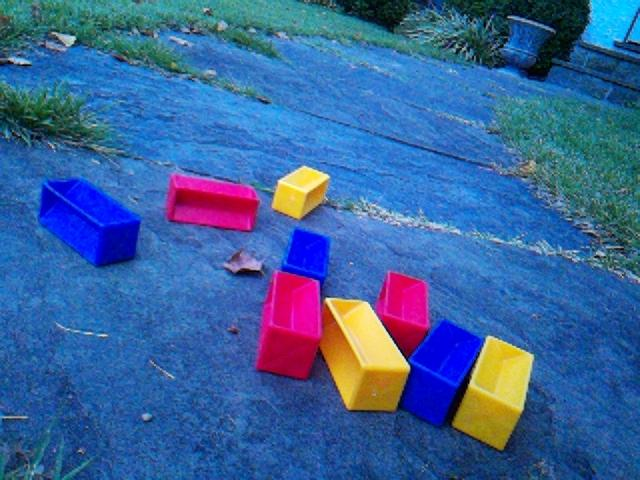blue: (37, 175, 143, 268), (400, 318, 484, 428), (281, 226, 332, 283)
red: (255, 269, 324, 381), (165, 171, 261, 233), (375, 269, 431, 358)
yellow: (318, 296, 411, 413), (451, 334, 535, 452), (271, 164, 331, 221)
